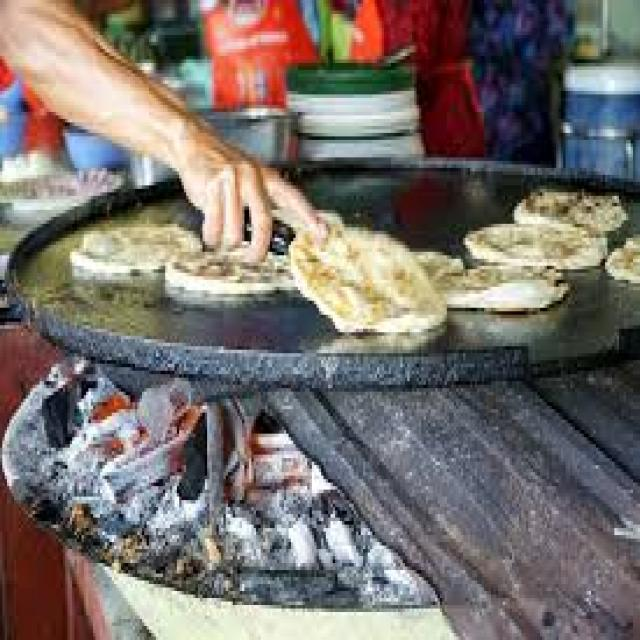Paratha: (300, 222, 439, 336), (440, 240, 556, 338), (484, 213, 596, 302), (165, 235, 291, 299), (530, 161, 625, 244), (76, 216, 197, 268)
